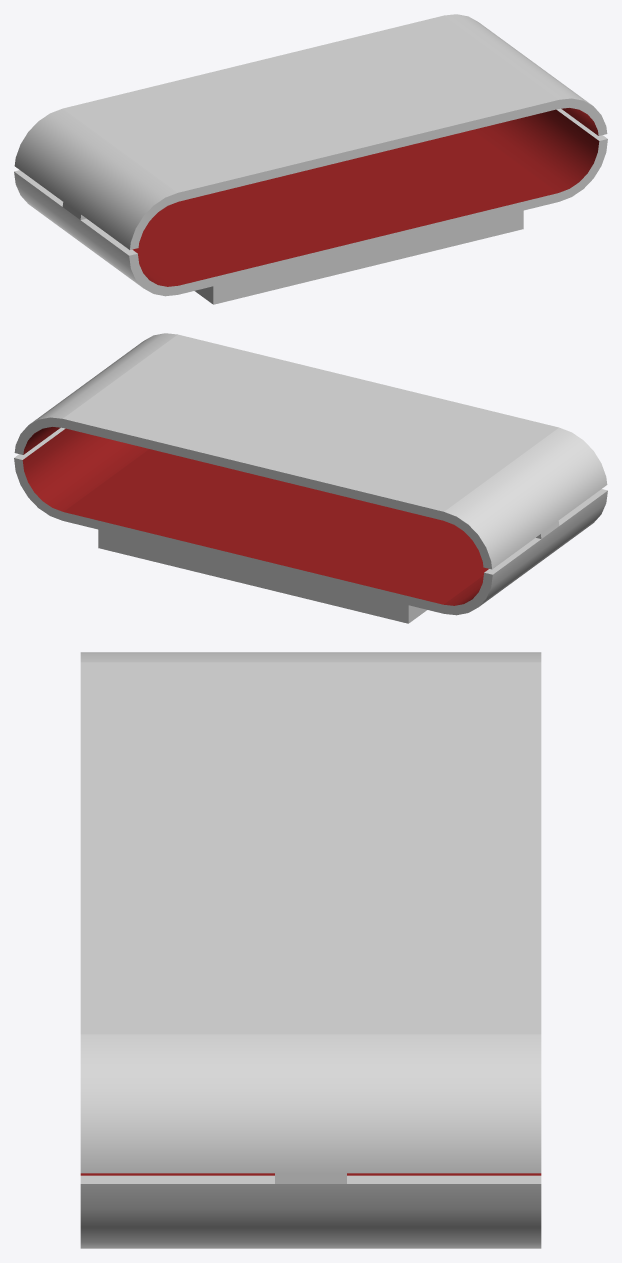
Rendered from table-modern.fbx.
The picture shows the model from 3 angles, top to bottom: view 1: azimuth 30°, elevation 25°; view 2: azimuth 150°, elevation 25°; view 3: azimuth 270°, elevation 25°; orthographic projection. The views are drawn at different scales.
Parts seen in each view (by area): view 1: Layer0_001; view 2: Layer0_001; view 3: Layer0_001.
Boxes of the visible parts, bbox=[...] form: Layer0_001: bbox=[14, 14, 607, 304]; Layer0_001: bbox=[14, 333, 607, 623]; Layer0_001: bbox=[80, 652, 541, 1248].
Bounding box in the file's own units: 1458 × 351 × 607.
